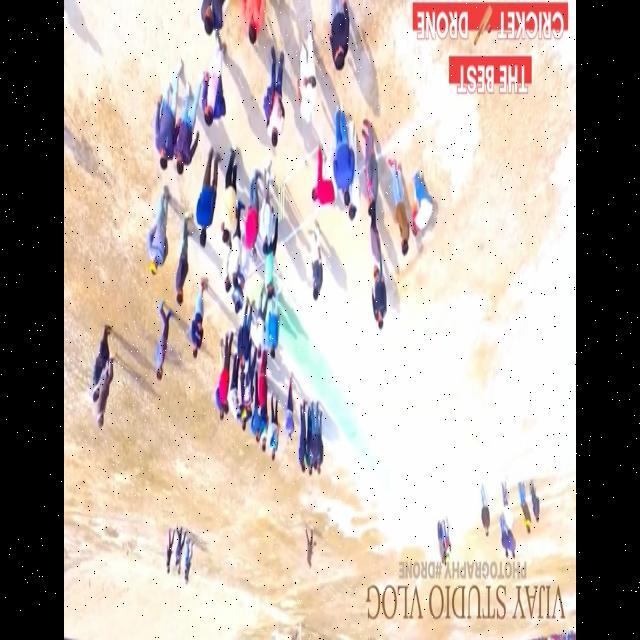humans: (153, 56, 180, 175), (264, 46, 289, 157), (201, 37, 228, 132), (296, 18, 318, 132), (197, 148, 221, 252), (174, 80, 198, 184), (390, 162, 412, 262), (148, 187, 170, 283), (220, 146, 240, 250), (334, 100, 353, 208), (409, 166, 433, 244), (327, 0, 351, 75), (305, 224, 325, 312), (238, 0, 273, 49), (309, 139, 333, 210), (188, 277, 206, 369), (174, 213, 191, 309), (361, 115, 376, 223), (153, 296, 171, 385), (89, 328, 108, 406), (261, 167, 275, 262), (198, 0, 228, 43), (246, 170, 259, 265), (284, 371, 298, 451), (266, 308, 284, 366), (369, 286, 389, 338), (368, 211, 382, 284), (478, 477, 493, 545), (253, 292, 266, 366), (501, 472, 515, 538), (518, 479, 533, 539), (296, 402, 308, 475), (301, 520, 316, 578), (528, 472, 543, 528), (220, 333, 230, 416), (261, 257, 279, 303), (238, 312, 250, 374), (173, 520, 185, 579), (310, 407, 320, 472), (270, 396, 279, 465), (443, 512, 454, 564), (257, 362, 267, 419), (230, 290, 248, 321), (183, 537, 193, 592), (94, 404, 110, 434), (164, 526, 172, 584), (220, 260, 232, 298), (242, 379, 252, 419), (232, 248, 241, 290), (250, 417, 262, 446), (215, 400, 226, 428), (509, 536, 518, 566), (346, 202, 356, 224), (502, 542, 511, 564), (260, 436, 268, 459), (238, 416, 247, 434), (316, 463, 324, 480), (307, 465, 312, 478)
